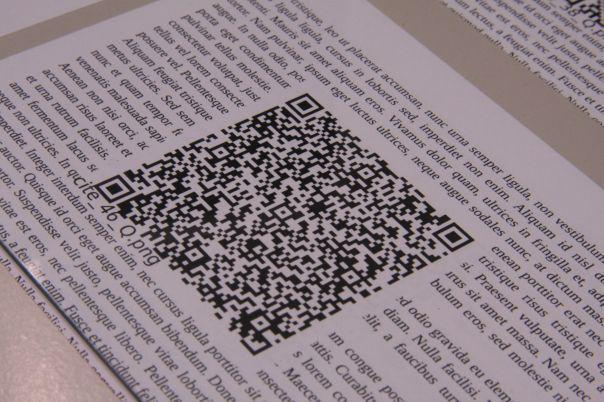qr_code: (94, 92, 475, 356)
